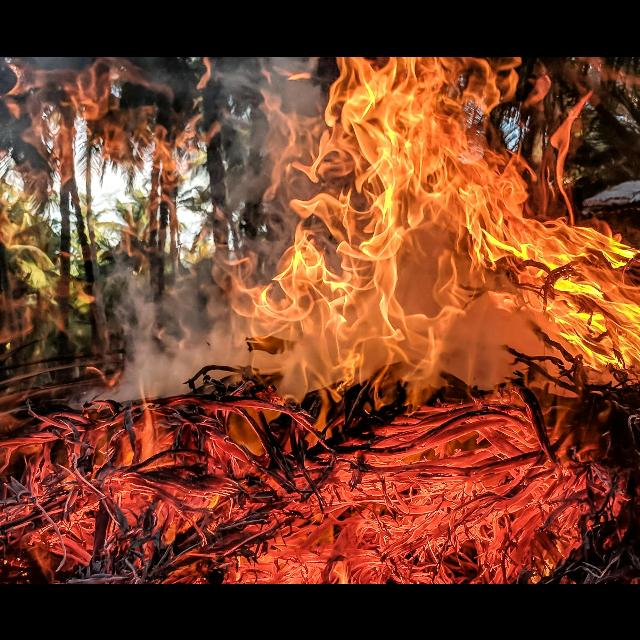fire: (230, 56, 640, 395), (0, 407, 588, 583)
